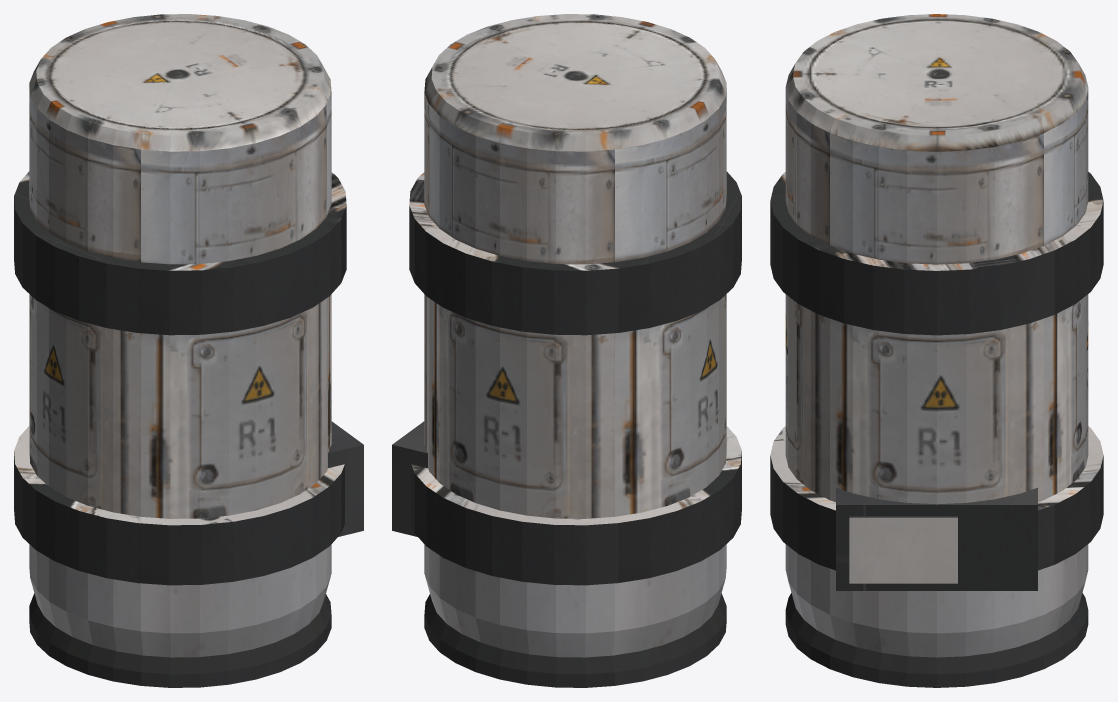
Rendered from Reactor.fbx.
3 views of the same model, side by side, from view 1: azimuth 30°, elevation 25°; view 2: azimuth 150°, elevation 25°; view 3: azimuth 270°, elevation 25° (orthographic).
Visible parts, largest first — view 1: Цилиндр; view 2: Цилиндр; view 3: Цилиндр.
Part boxes in pixels (box(x1,y1,x2,y2)): Цилиндр: box(14, 14, 363, 687); Цилиндр: box(392, 14, 741, 687); Цилиндр: box(770, 14, 1103, 687).
Size of the model in its own units: 330 by 600 by 330.
